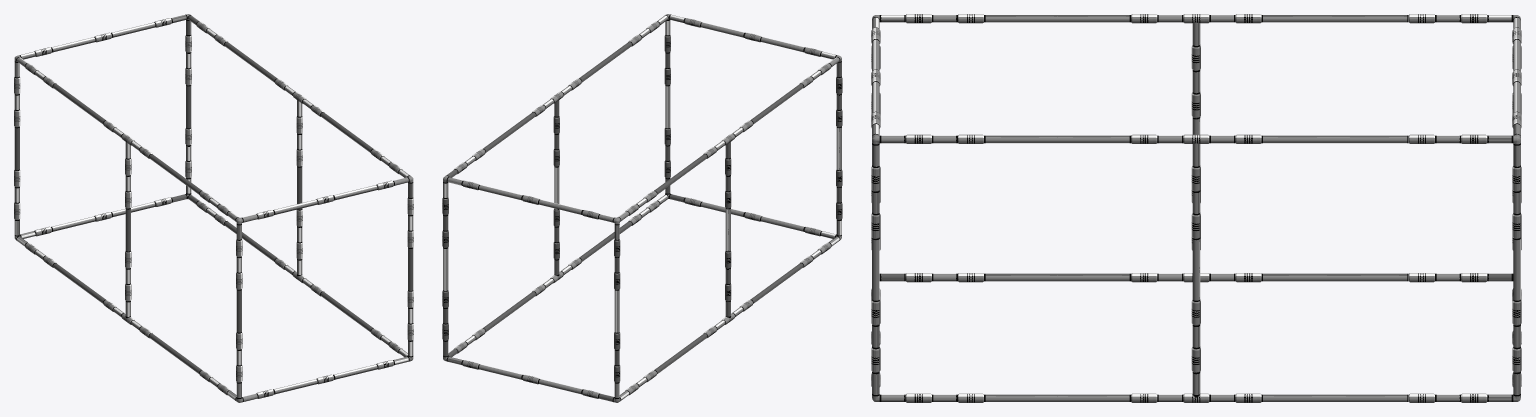
Rendered from room.glb.
3 views of the same model, side by side, from view 1: azimuth 30°, elevation 25°; view 2: azimuth 150°, elevation 25°; view 3: azimuth 270°, elevation 25° (orthographic). The views are drawn at different scales.
Visible parts, largest first — view 1: bar_straight.001; view 2: bar_straight.001; view 3: bar_straight.001.
Boxes of the visible parts, x1,y1,x2,y2 form: bar_straight.001: (14,14,413,402); bar_straight.001: (442,14,842,402); bar_straight.001: (871,14,1521,402).
Bounding box in the file's own units: 2.33 × 2.33 × 5.13.
1 material, 1 textured.
